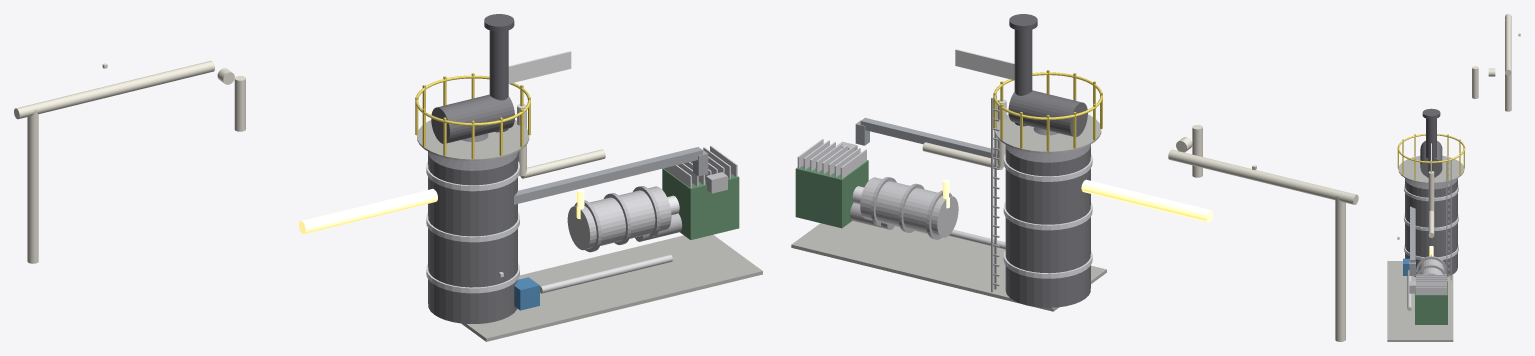
The model's file is Stage5-EnergyRecovery.fbx.
3 renders of one model, left to right at view 1: azimuth 30°, elevation 25°; view 2: azimuth 150°, elevation 25°; view 3: azimuth 270°, elevation 25°, orthographic. The views are drawn at different scales.
Visible parts, largest first — view 1: S5_WHRB_BoilerTank, S5_WHRB_FoundationPad, S5_SteamTurbine_Body, S5_ElectricalGenerator_Housing, S5_WHRB_SteamDrum, S5_PowerBusDuct_RunSegment, S5_SyngasLoop_Horizontal, ACC_S5_BoilerTopCatwalk, S5_WHRB_HotSyngas_Inlet, S5_SyngasLoop_Downcomer, S5_WHRB_FlueStack, ACC_Sign_Stage5 (+9 smaller); view 2: S5_WHRB_BoilerTank, S5_WHRB_FoundationPad, S5_SteamTurbine_Body, S5_ElectricalGenerator_Housing, S5_WHRB_SteamDrum, S5_SyngasLoop_Horizontal, ACC_S5_BoilerTopCatwalk, S5_WHRB_HotSyngas_Inlet, S5_SyngasLoop_Downcomer, S5_PowerBusDuct_RunSegment, S5_WHRB_FlueStack, ACC_Sign_Stage5 (+10 smaller); view 3: S5_WHRB_BoilerTank, S5_WHRB_FoundationPad, ACC_S5_BoilerTopCatwalk, S5_ElectricalGenerator_Housing, S5_WHRB_FlueStack, S5_WHRB_SteamDrum, S5_SyngasLoop_Horizontal, S5_PowerBusDuct_RunSegment, ACC_S5_Boiler_TopRail, S5_WHRB_SteamPipe_Vertical, S5_SteamTurbine_Body, S5_WHRB_BoilerTank_TopDome (+12 smaller).
Boxes of the visible parts, x1=… form: S5_WHRB_BoilerTank: x1=428, y1=152, x2=517, y2=323; S5_WHRB_FoundationPad: x1=461, y1=235, x2=762, y2=341; S5_SteamTurbine_Body: x1=567, y1=186, x2=671, y2=250; S5_ElectricalGenerator_Housing: x1=662, y1=168, x2=739, y2=239; S5_WHRB_SteamDrum: x1=431, y1=94, x2=514, y2=143; S5_PowerBusDuct_RunSegment: x1=514, y1=147, x2=702, y2=204; S5_SyngasLoop_Horizontal: x1=14, y1=60, x2=214, y2=119; ACC_S5_BoilerTopCatwalk: x1=417, y1=120, x2=529, y2=160; S5_WHRB_HotSyngas_Inlet: x1=299, y1=189, x2=437, y2=233; S5_SyngasLoop_Downcomer: x1=27, y1=110, x2=38, y2=263; S5_WHRB_FlueStack: x1=489, y1=30, x2=508, y2=132; ACC_Sign_Stage5: x1=508, y1=51, x2=571, y2=83; S5_WHRB_BoilerTank: x1=1005, y1=144, x2=1090, y2=307; S5_WHRB_FoundationPad: x1=791, y1=221, x2=1106, y2=311; S5_SteamTurbine_Body: x1=860, y1=177, x2=958, y2=237; S5_ElectricalGenerator_Housing: x1=795, y1=160, x2=868, y2=228; S5_WHRB_SteamDrum: x1=1008, y1=90, x2=1087, y2=136; S5_SyngasLoop_Horizontal: x1=1168, y1=149, x2=1358, y2=204; ACC_S5_BoilerTopCatwalk: x1=995, y1=114, x2=1101, y2=153; S5_WHRB_HotSyngas_Inlet: x1=1081, y1=179, x2=1213, y2=222; S5_SyngasLoop_Downcomer: x1=1335, y1=196, x2=1345, y2=341; S5_PowerBusDuct_RunSegment: x1=860, y1=117, x2=997, y2=157; S5_WHRB_FlueStack: x1=1014, y1=29, x2=1032, y2=126; ACC_Sign_Stage5: x1=955, y1=49, x2=1014, y2=80; S5_WHRB_BoilerTank: x1=1405, y1=178, x2=1457, y2=276; S5_WHRB_FoundationPad: x1=1387, y1=261, x2=1453, y2=341; ACC_S5_BoilerTopCatwalk: x1=1398, y1=155, x2=1464, y2=183; S5_ElectricalGenerator_Housing: x1=1415, y1=281, x2=1447, y2=324; S5_WHRB_FlueStack: x1=1426, y1=118, x2=1436, y2=177; S5_WHRB_SteamDrum: x1=1420, y1=140, x2=1442, y2=176; S5_SyngasLoop_Horizontal: x1=1505, y1=14, x2=1511, y2=75; S5_PowerBusDuct_RunSegment: x1=1410, y1=206, x2=1415, y2=262; ACC_S5_Boiler_TopRail: x1=1397, y1=134, x2=1465, y2=163; S5_WHRB_SteamPipe_Vertical: x1=1428, y1=171, x2=1434, y2=211; S5_SteamTurbine_Body: x1=1418, y1=259, x2=1444, y2=274; S5_WHRB_BoilerTank_TopDome: x1=1405, y1=178, x2=1457, y2=189.
Size of the model in its own units: 1975 by 828 by 605.
